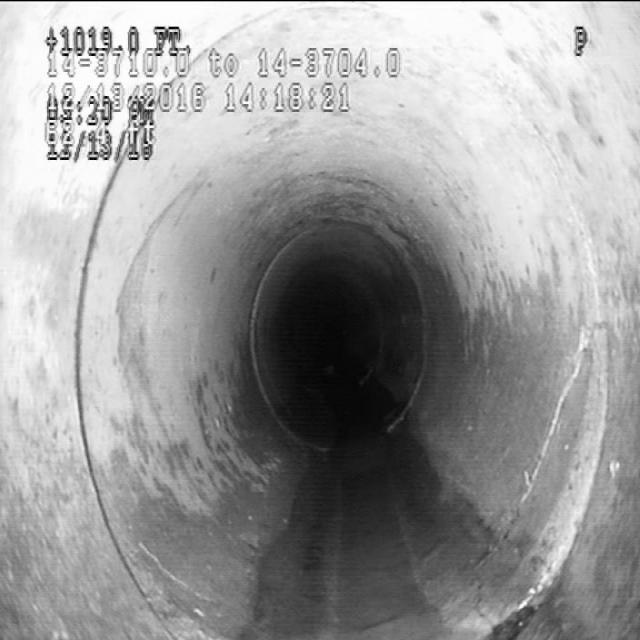Crack: (493, 308, 595, 526)
